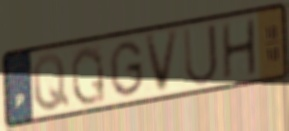G: (107, 39, 146, 100)
H: (220, 15, 259, 83)
Q: (30, 52, 72, 114), (69, 43, 108, 108)
U: (181, 21, 220, 89)
V: (143, 26, 182, 97)
